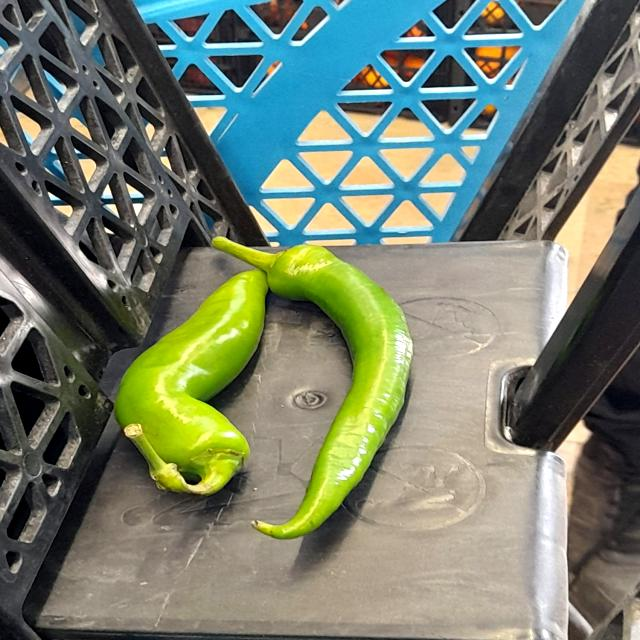green pepper: (233, 219, 420, 546), (104, 252, 301, 501)
